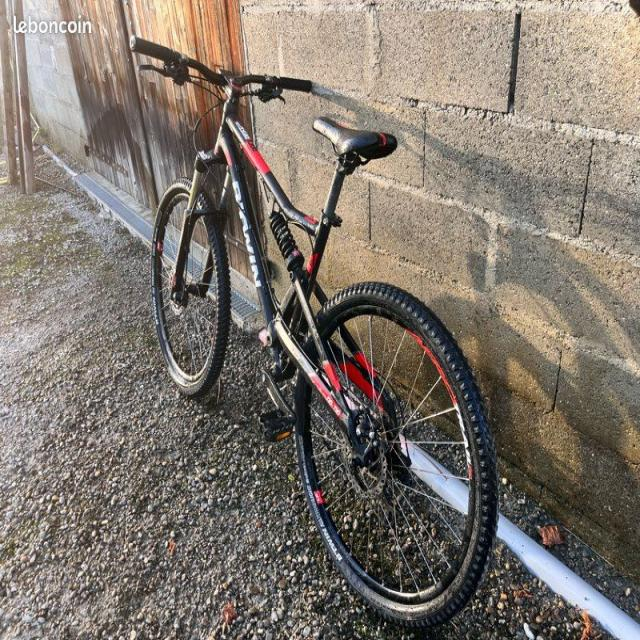Bike: (130, 36, 497, 627)
